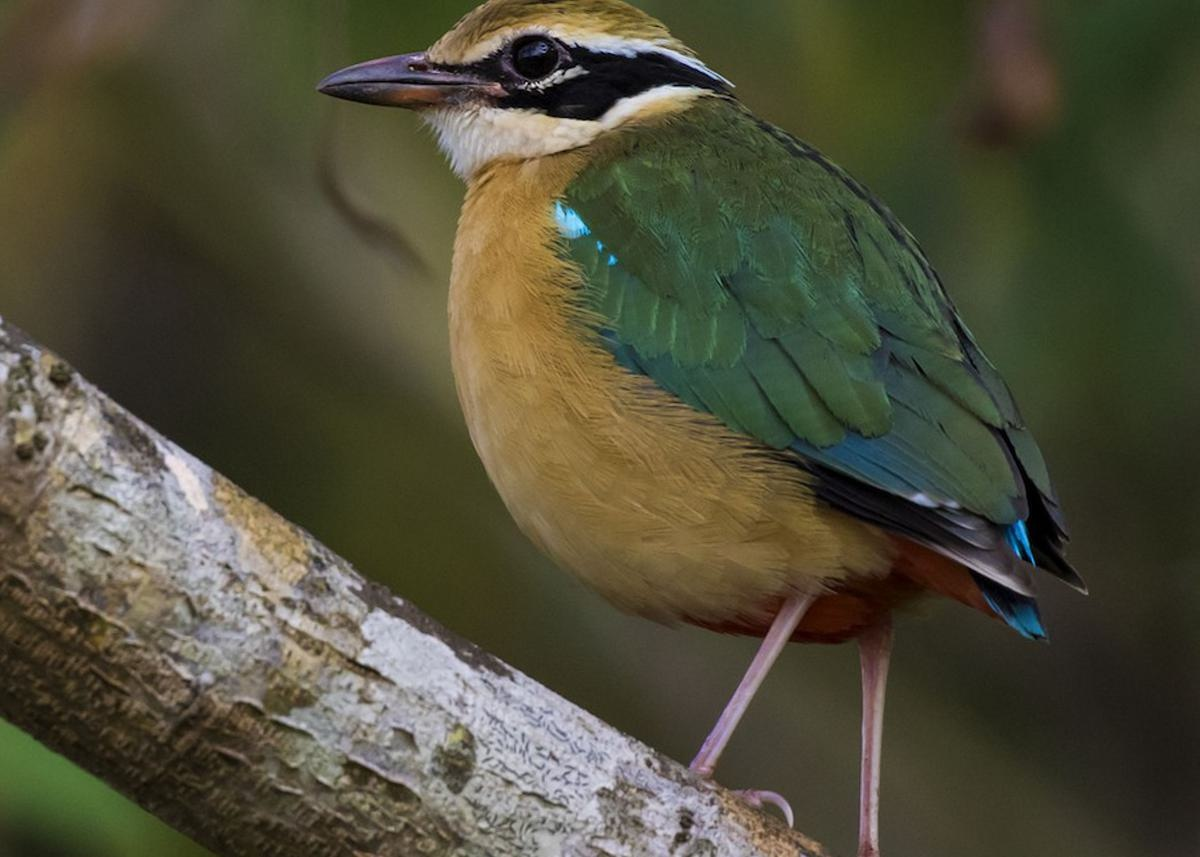pitta: (348, 10, 1059, 791)
